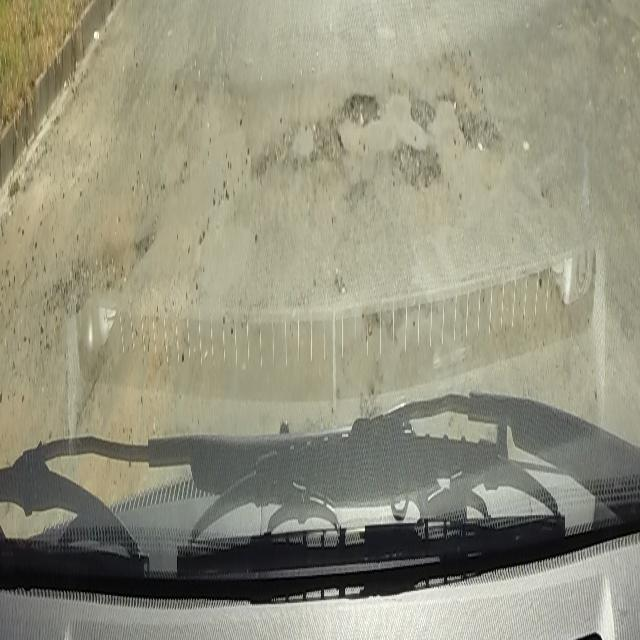pothole: (46, 225, 154, 318), (310, 80, 379, 178), (393, 83, 441, 195), (448, 78, 497, 150)
